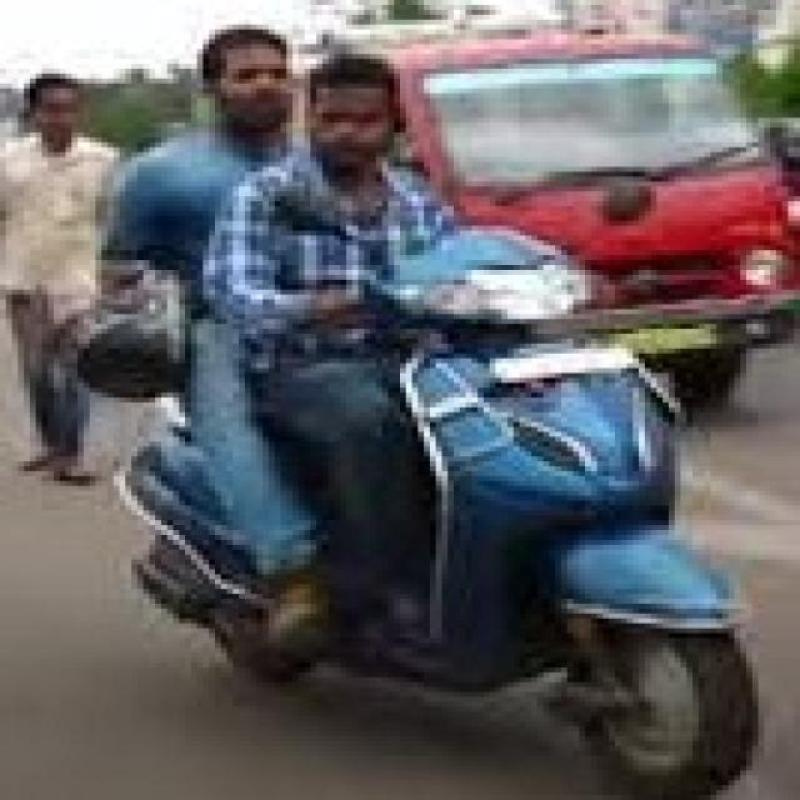nohelmet: (144, 7, 286, 128), (298, 56, 421, 174)
